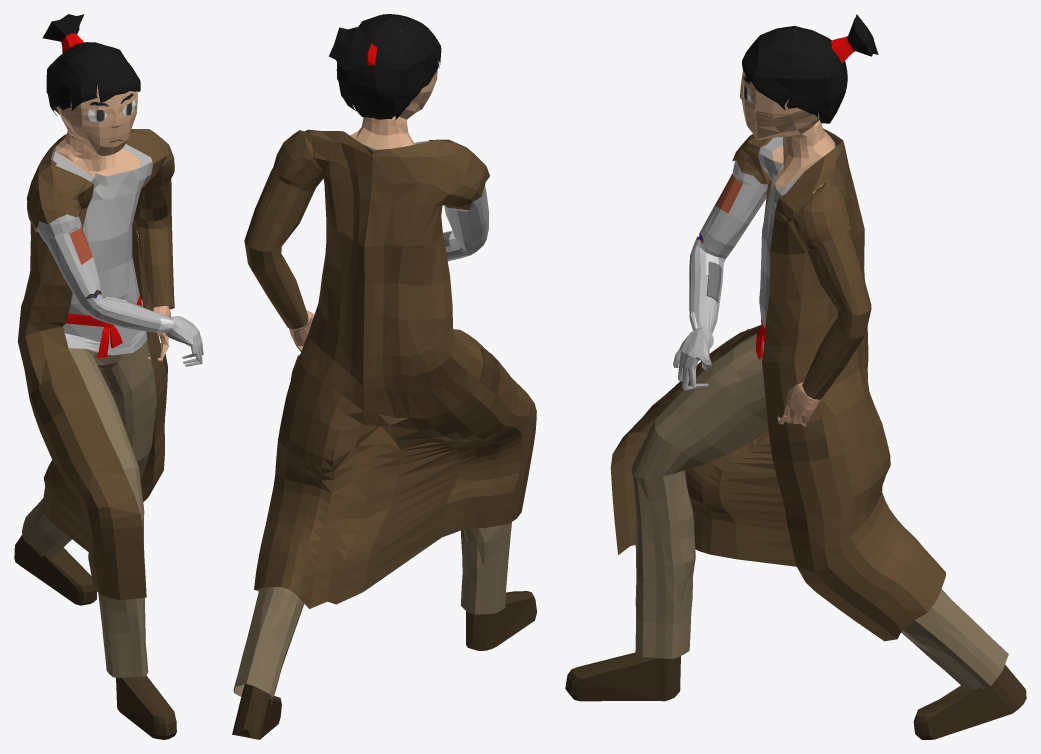
The model's file is Special_Attack_000002.obj.
The picture shows the model from 3 angles, left to right: view 1: azimuth 30°, elevation 25°; view 2: azimuth 150°, elevation 25°; view 3: azimuth 270°, elevation 25°; orthographic projection. The views are drawn at different scales.
Parts seen in each view (by area): view 1: Hair_Cube.004; view 2: Hair_Cube.004; view 3: Hair_Cube.004.
Boxes of the visible parts, left/top/right/bottom form: Hair_Cube.004: left=14, top=14, right=203, bottom=739; Hair_Cube.004: left=232, top=14, right=536, bottom=739; Hair_Cube.004: left=565, top=14, right=1026, bottom=739.
Size of the model in its own units: 1.11 by 3.68 by 2.22.
